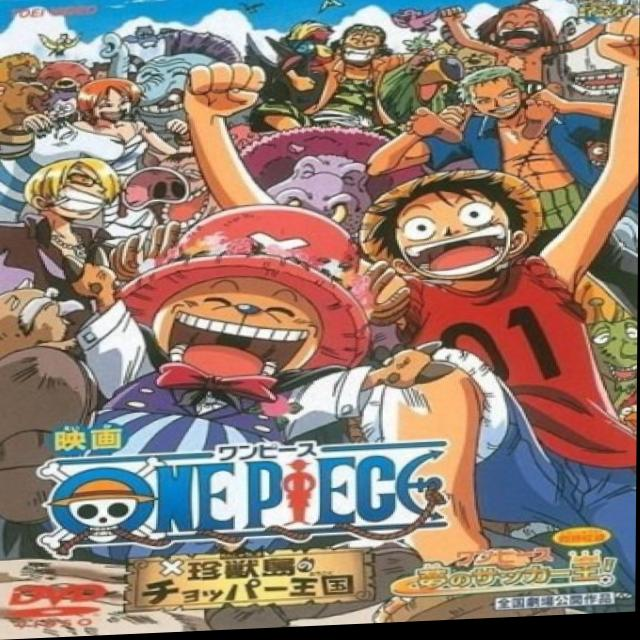Chyopa: (104, 212, 362, 398)
Luffy: (363, 167, 553, 292)
Nami: (76, 74, 144, 129)
Sangdi: (19, 154, 129, 229)
Usopp: (328, 22, 394, 75)
Zoro: (454, 66, 537, 126)
